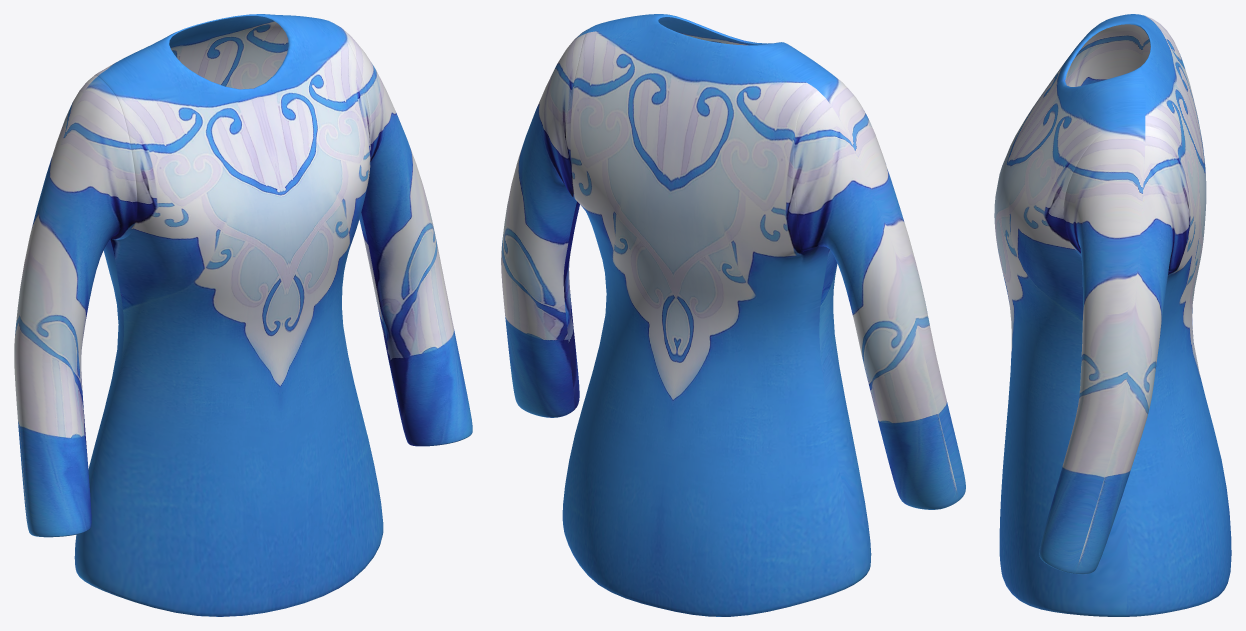
File: azure-silk-blouse.glb
3 renders of one model, left to right at view 1: azimuth 30°, elevation 25°; view 2: azimuth 150°, elevation 25°; view 3: azimuth 270°, elevation 25°, orthographic. The views are drawn at different scales.
Parts seen in each view (by area): view 1: polySurface23_blouseee_0; view 2: polySurface23_blouseee_0; view 3: polySurface23_blouseee_0.
Part boxes in pixels (box(x1,y1,x2,y2)): polySurface23_blouseee_0: box(14, 14, 472, 616); polySurface23_blouseee_0: box(501, 14, 965, 616); polySurface23_blouseee_0: box(994, 14, 1231, 616).
Bounding box in the file's own units: 71.04 × 82.6 × 33.98.
Materials: 1 (1 with a texture image).
